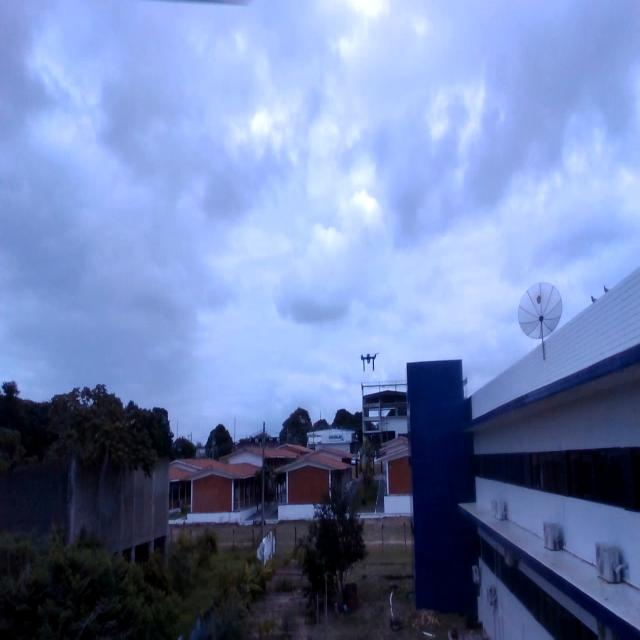-uav-: (358, 345, 380, 375)
